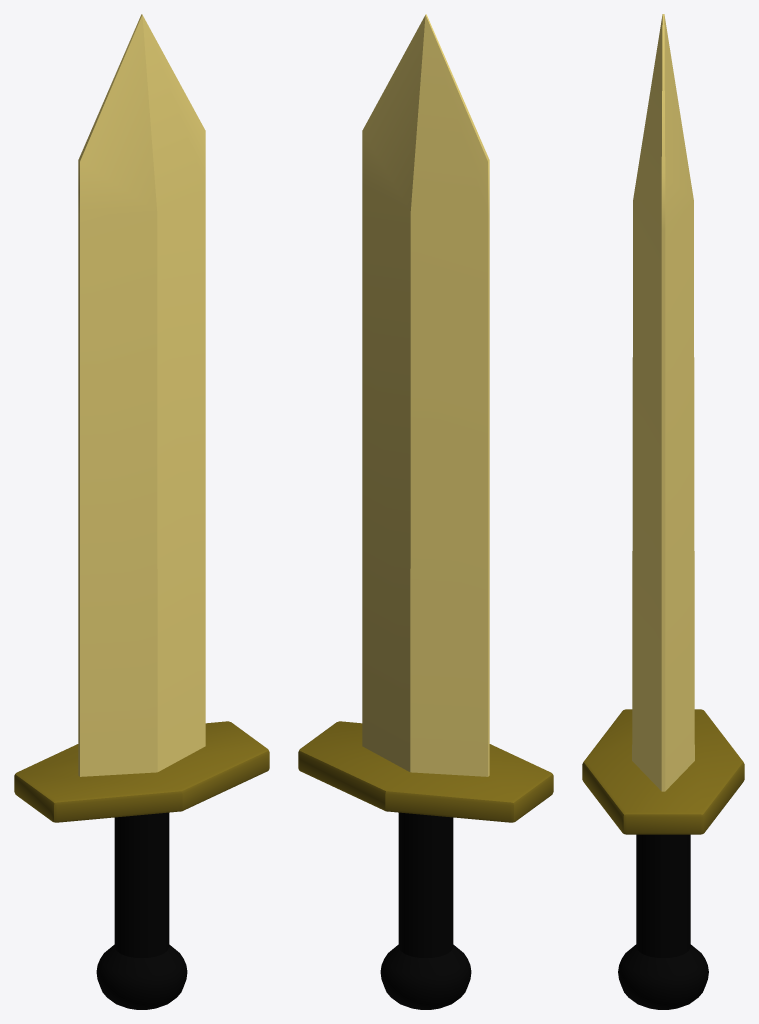
Rendered from OneHand_Sword_Gold.fbx.
3 views of the same model, side by side, from view 1: azimuth 30°, elevation 25°; view 2: azimuth 150°, elevation 25°; view 3: azimuth 270°, elevation 25° (orthographic).
Parts seen in each view (by area): view 1: OneHand_Sword_Gold; view 2: OneHand_Sword_Gold; view 3: OneHand_Sword_Gold.
Part boxes in pixels (left/top/right/bottom): OneHand_Sword_Gold: left=14, top=14, right=269, bottom=1009; OneHand_Sword_Gold: left=298, top=14, right=553, bottom=1009; OneHand_Sword_Gold: left=582, top=14, right=744, bottom=1009.
Bounding box in the file's own units: 173 × 751 × 112.
